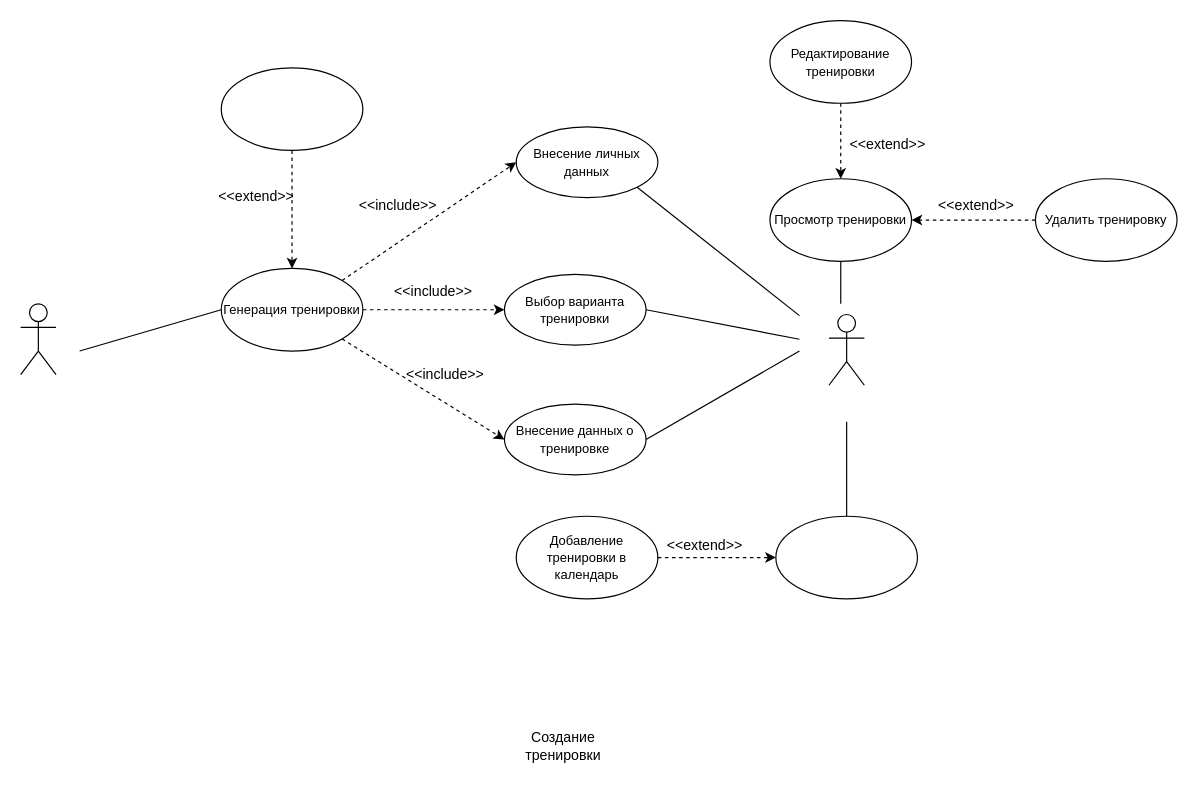
This 1198x785 diagram has some shape labels left out. Each missing label, with the centre of its shape:
"ИИ" goes at (37,339).
"Отменить генерацию" goes at (291,108).
"Подтверждение тренировки" goes at (846,557).
"Пользователь" goes at (846,349).
